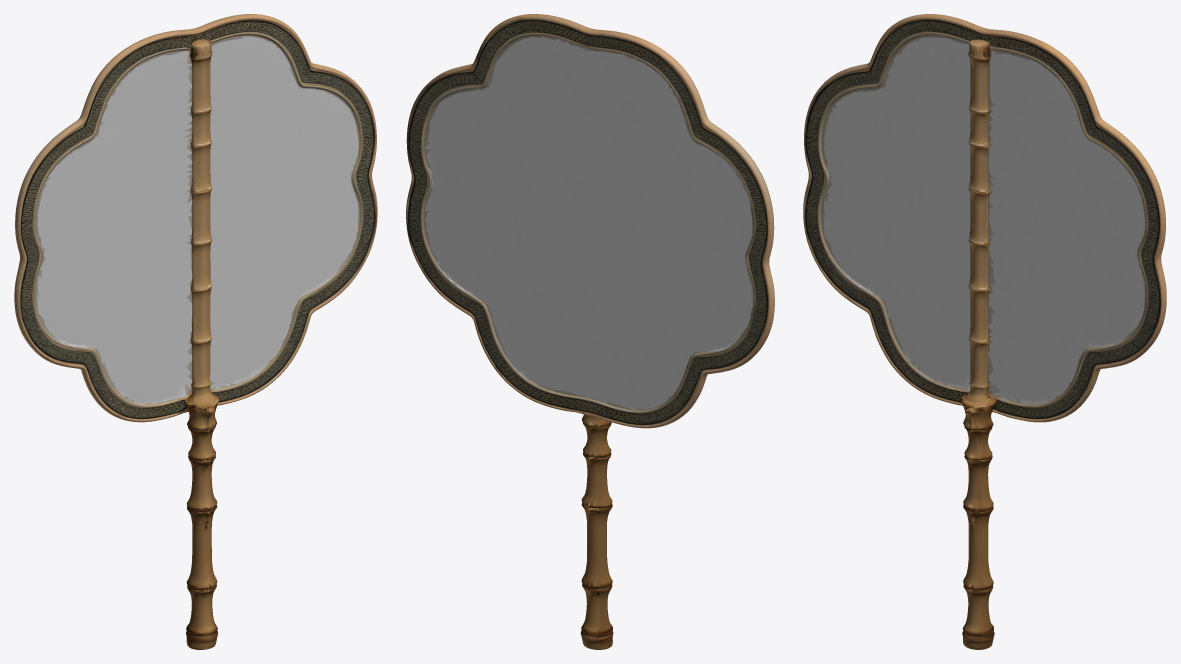
File: fan_b.glb
The picture shows the model from 3 angles, left to right: view 1: azimuth 30°, elevation 25°; view 2: azimuth 150°, elevation 25°; view 3: azimuth 330°, elevation 25°; orthographic projection.
Parts seen in each view (by area): view 1: fan_face, fan_body; view 2: fan_face, fan_body; view 3: fan_face, fan_body.
Part boxes in pixels (x1=…): fan_face: x1=37, y1=36, x2=358, y2=403; fan_body: x1=14, y1=14, x2=377, y2=649; fan_face: x1=425, y1=37, x2=753, y2=409; fan_body: x1=406, y1=14, x2=774, y2=649; fan_face: x1=823, y1=38, x2=1145, y2=403; fan_body: x1=803, y1=14, x2=1166, y2=649.
Size of the model in its own units: 0.7313 by 1.19 by 0.0672.
2 materials, 1 textured.
